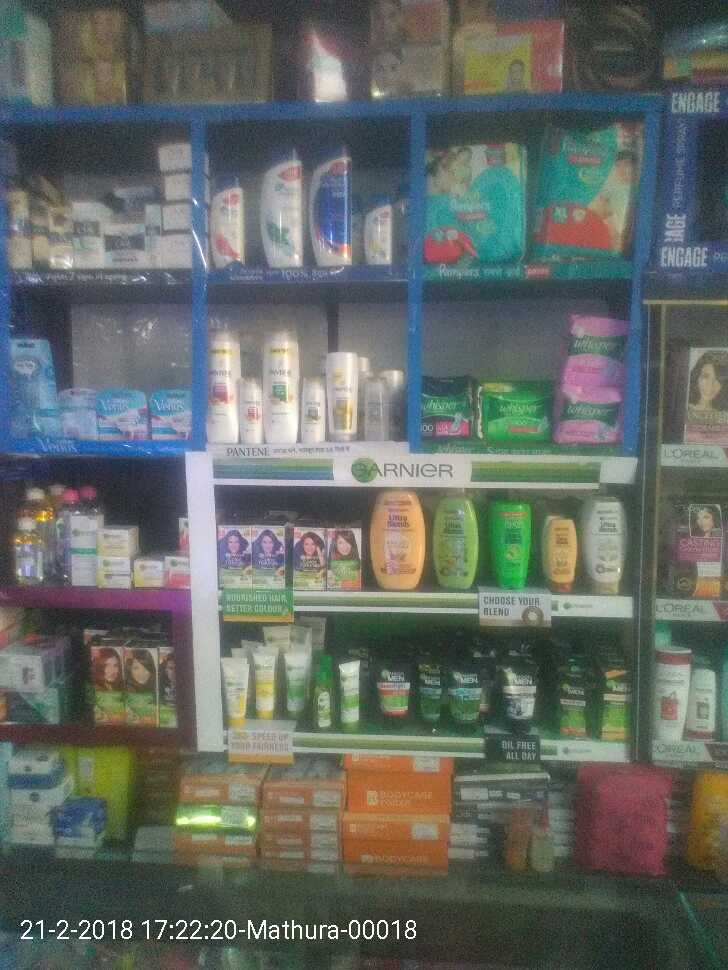venus: (8, 338, 59, 432), (95, 389, 149, 440), (149, 387, 192, 440), (59, 389, 96, 432)
